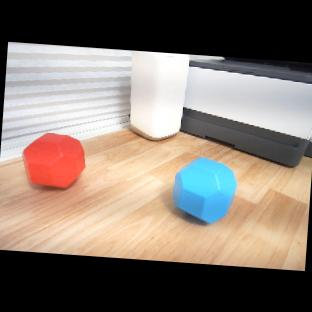V5_BLUE: (170, 154, 241, 226), (173, 157, 236, 223)
V5_RED: (19, 130, 88, 191), (22, 133, 85, 187)
